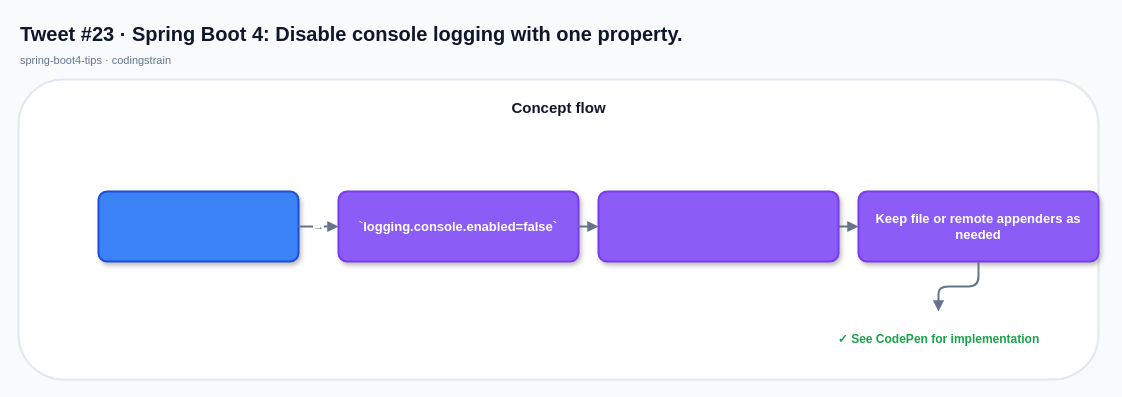
The diagram is 1122 pixels wide and 397 high, and some of its shapes have lost their labels. The centre of each missing label's shape, as x and y in pixels:
"Problem / context" goes at [199,227].
"Useful in containers that only scrape files/OTLP" goes at [719,227].
